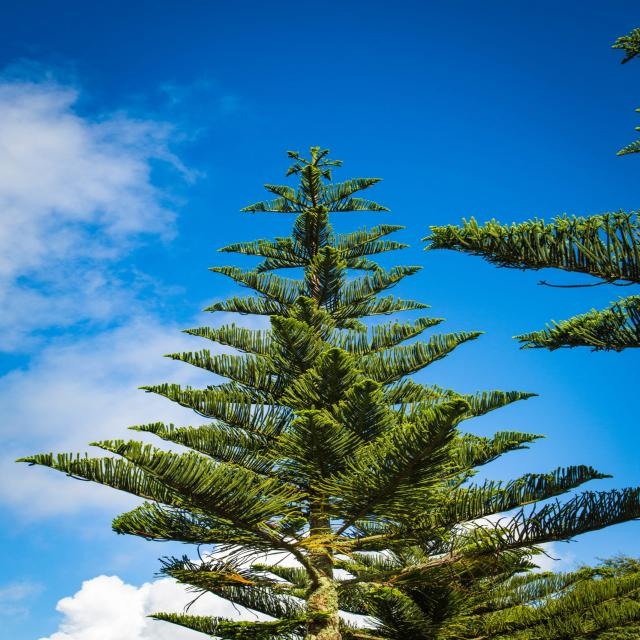Araucaria heterophylla: (100, 140, 544, 640)
